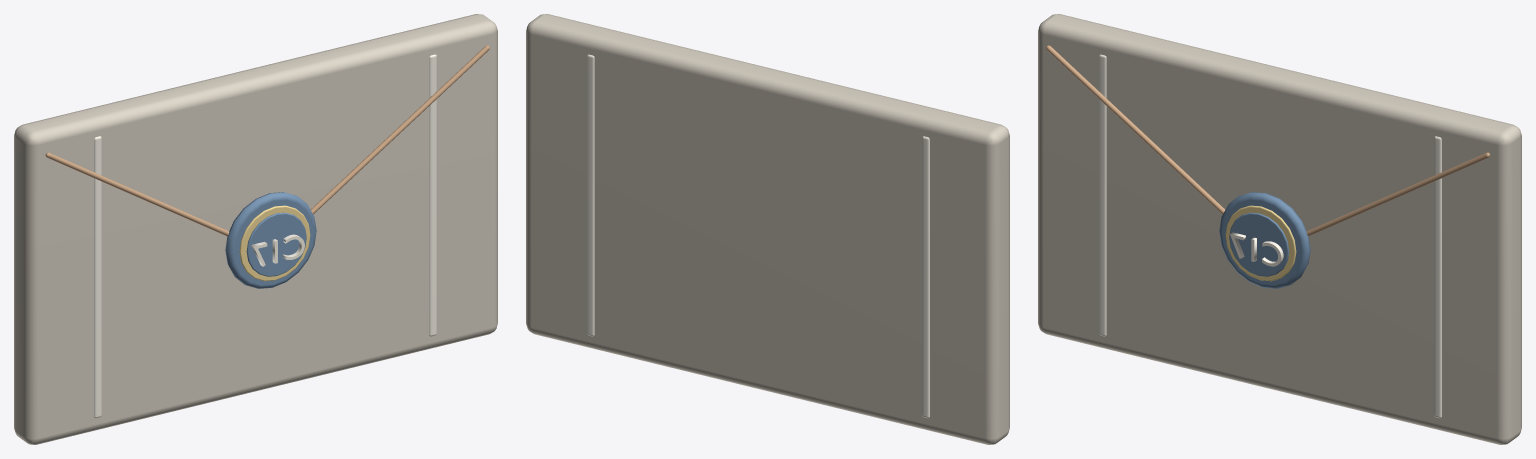
The model's file is CharityEnvelope.fbx.
The picture shows the model from 3 angles, left to right: view 1: azimuth 30°, elevation 25°; view 2: azimuth 150°, elevation 25°; view 3: azimuth 330°, elevation 25°; orthographic projection.
Visible parts, largest first — view 1: Sealed donation envelope, Blue tamper seal, Seal blue centre, Paper edge, Paper edge.001, Envelope fold.001, Seal gold rim, Envelope fold, C17; view 2: Sealed donation envelope, Paper edge, Paper edge.001; view 3: Sealed donation envelope, Blue tamper seal, Seal blue centre, Paper edge.001, Paper edge, Envelope fold, Seal gold rim, Envelope fold.001, C17.
Part boxes in pixels (left/top/right/bottom): Sealed donation envelope: left=14, top=14, right=497, bottom=444; Blue tamper seal: left=225, top=192, right=316, bottom=288; Seal blue centre: left=246, top=212, right=306, bottom=276; Paper edge: left=94, top=136, right=101, bottom=418; Paper edge.001: left=429, top=54, right=436, bottom=336; Envelope fold.001: left=310, top=45, right=489, bottom=214; Seal gold rim: left=239, top=205, right=310, bottom=281; Envelope fold: left=45, top=152, right=229, bottom=236; C17: left=251, top=234, right=304, bottom=266; Sealed donation envelope: left=526, top=14, right=1009, bottom=444; Paper edge: left=922, top=136, right=929, bottom=418; Paper edge.001: left=587, top=54, right=594, bottom=336; Sealed donation envelope: left=1038, top=14, right=1521, bottom=444; Blue tamper seal: left=1219, top=192, right=1310, bottom=288; Seal blue centre: left=1229, top=212, right=1289, bottom=276; Paper edge.001: left=1434, top=136, right=1441, bottom=418; Paper edge: left=1099, top=54, right=1106, bottom=336; Envelope fold: left=1046, top=45, right=1225, bottom=214; Seal gold rim: left=1225, top=205, right=1296, bottom=281; Envelope fold.001: left=1306, top=152, right=1490, bottom=236; C17: left=1230, top=232, right=1283, bottom=266.
Bounding box in the file's own units: 79 × 9.85 × 50.
